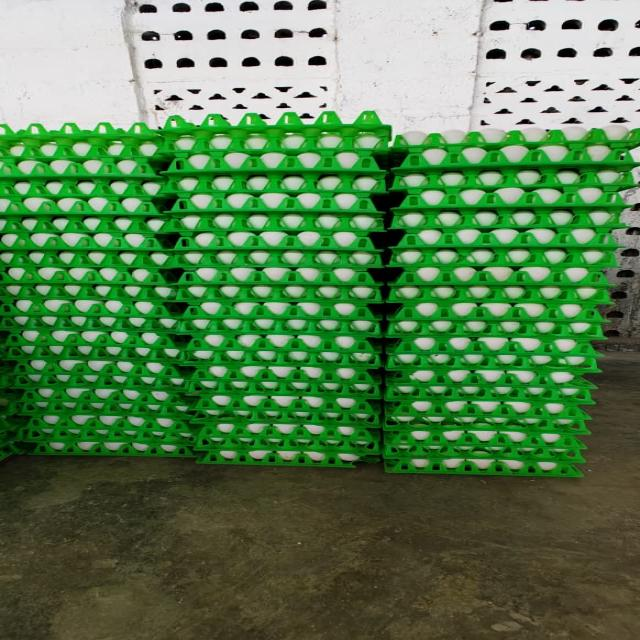egg_tray: (384, 130, 633, 475), (391, 138, 631, 285), (391, 196, 622, 339), (189, 302, 379, 465), (385, 338, 596, 474), (180, 230, 378, 367), (387, 297, 600, 424), (0, 234, 378, 302), (390, 196, 622, 300), (184, 302, 380, 425), (383, 364, 593, 476), (389, 270, 607, 368), (391, 194, 624, 284), (389, 228, 611, 322), (178, 231, 380, 332), (186, 326, 379, 426), (390, 248, 609, 336), (185, 328, 380, 426), (2, 267, 177, 374), (181, 302, 379, 396), (194, 366, 379, 466), (8, 316, 187, 418), (390, 211, 617, 291), (174, 214, 380, 302), (185, 334, 379, 426), (0, 231, 180, 330), (387, 337, 596, 422), (0, 203, 176, 301), (15, 359, 191, 456), (391, 194, 624, 266), (163, 120, 389, 190), (172, 194, 380, 270), (173, 192, 382, 267), (393, 145, 635, 209), (10, 331, 188, 417), (0, 198, 172, 286), (189, 348, 379, 426), (0, 216, 176, 299), (177, 230, 379, 302), (0, 198, 168, 284), (386, 364, 594, 433), (393, 144, 636, 203), (0, 202, 170, 286), (174, 200, 382, 268), (15, 359, 189, 440), (0, 290, 181, 366), (391, 208, 619, 268), (386, 364, 593, 430), (181, 300, 379, 368), (4, 316, 189, 388), (163, 154, 385, 213), (163, 152, 384, 208), (0, 124, 162, 200), (383, 416, 587, 476), (170, 213, 380, 271), (390, 230, 615, 283), (389, 282, 608, 336), (393, 194, 624, 245), (192, 365, 378, 428), (383, 419, 585, 476), (1, 298, 180, 362), (383, 414, 585, 470), (2, 180, 161, 251), (177, 250, 380, 305), (0, 251, 176, 313), (390, 271, 608, 321), (389, 286, 606, 336), (190, 364, 380, 419), (163, 149, 384, 196), (0, 246, 177, 302), (195, 412, 378, 466), (390, 191, 624, 233), (0, 140, 163, 200), (163, 152, 384, 196), (0, 160, 162, 220), (162, 112, 389, 154), (404, 170, 630, 212), (0, 249, 177, 302), (191, 380, 378, 430), (23, 387, 191, 442), (2, 193, 164, 250), (391, 166, 633, 204), (195, 416, 378, 466), (162, 151, 384, 192), (197, 416, 378, 466), (170, 192, 382, 234), (170, 192, 382, 233), (386, 386, 592, 428), (386, 302, 604, 341), (389, 264, 607, 302), (383, 427, 585, 468), (168, 232, 380, 270), (386, 334, 597, 372), (162, 152, 383, 188), (195, 420, 378, 463), (394, 144, 636, 176), (20, 412, 194, 456), (21, 412, 194, 456), (385, 368, 595, 404), (19, 403, 194, 446), (177, 266, 380, 303), (172, 136, 383, 171), (178, 301, 380, 337), (184, 332, 379, 369), (1, 211, 172, 252), (187, 364, 380, 400), (0, 264, 175, 302), (393, 124, 639, 151), (172, 192, 378, 224), (385, 414, 589, 446), (0, 298, 181, 334), (23, 416, 190, 455), (192, 393, 378, 428), (0, 156, 158, 194), (0, 123, 162, 160), (384, 447, 583, 477), (5, 328, 180, 362), (0, 298, 178, 331), (0, 196, 163, 232), (0, 250, 172, 284), (162, 171, 385, 197), (15, 357, 189, 390), (195, 435, 378, 466), (404, 186, 622, 212), (20, 385, 189, 418), (0, 176, 163, 210), (385, 450, 582, 477), (196, 419, 378, 448), (0, 136, 161, 167), (24, 430, 195, 456), (197, 443, 378, 467), (30, 434, 196, 457), (0, 122, 159, 146), (222, 303, 343, 324), (0, 345, 23, 448), (0, 357, 22, 447), (404, 364, 533, 379), (0, 351, 21, 430), (0, 359, 23, 430), (0, 387, 19, 450), (0, 358, 19, 418), (0, 414, 24, 460), (254, 302, 304, 324), (0, 358, 14, 417), (0, 432, 29, 460), (86, 390, 152, 400), (455, 169, 508, 181), (77, 360, 108, 378), (0, 440, 25, 460), (144, 236, 167, 256), (280, 213, 304, 231), (490, 228, 528, 238), (559, 170, 596, 180), (243, 213, 267, 226), (350, 354, 378, 365), (21, 234, 49, 243), (549, 212, 574, 222), (426, 172, 450, 182), (287, 254, 308, 265), (476, 210, 497, 221), (520, 230, 545, 239), (312, 256, 334, 266), (218, 254, 239, 264), (463, 324, 484, 334), (334, 154, 354, 164), (249, 254, 267, 265), (575, 230, 597, 239), (611, 128, 626, 140), (399, 287, 415, 298), (338, 218, 360, 226), (65, 390, 87, 398), (362, 250, 376, 262), (357, 216, 378, 224), (353, 318, 374, 326), (289, 336, 305, 346), (251, 254, 267, 264), (474, 288, 500, 294), (53, 371, 67, 382), (285, 254, 299, 265), (457, 232, 476, 240), (440, 254, 455, 264), (324, 134, 339, 144), (324, 232, 340, 241), (110, 332, 126, 341), (399, 289, 415, 298), (353, 221, 369, 230), (456, 269, 468, 281), (143, 184, 156, 195), (153, 289, 170, 297), (346, 372, 363, 380), (279, 251, 294, 260), (135, 234, 154, 241), (283, 232, 305, 238), (119, 178, 135, 186), (27, 184, 43, 192), (362, 136, 378, 144), (494, 234, 508, 243), (505, 325, 523, 332), (117, 362, 132, 370), (358, 181, 371, 190), (258, 336, 272, 344), (354, 216, 368, 224), (361, 242, 372, 252), (84, 332, 95, 342), (250, 214, 262, 223), (402, 289, 415, 297), (398, 352, 412, 359), (90, 182, 114, 186), (428, 192, 440, 200), (317, 260, 333, 266), (357, 202, 372, 208), (47, 302, 56, 312), (559, 235, 574, 241), (199, 303, 210, 311), (567, 452, 576, 461), (507, 288, 517, 296), (147, 362, 163, 367), (205, 376, 218, 382), (541, 234, 554, 240), (455, 232, 468, 238), (361, 242, 372, 249), (322, 252, 333, 259), (157, 290, 169, 296), (251, 184, 263, 190), (283, 252, 294, 258), (358, 320, 369, 326), (581, 421, 587, 432), (354, 236, 367, 241), (207, 185, 220, 190), (150, 183, 158, 191), (236, 303, 252, 307), (31, 200, 37, 210), (115, 184, 125, 190), (110, 202, 119, 208), (214, 236, 227, 240), (508, 464, 521, 468), (158, 397, 168, 402), (466, 295, 482, 298), (591, 282, 603, 286), (355, 312, 363, 318), (36, 220, 45, 225), (549, 288, 560, 292), (306, 414, 313, 420), (112, 304, 119, 310), (550, 230, 556, 237), (284, 443, 294, 447), (141, 370, 151, 374), (343, 232, 352, 236), (232, 309, 238, 315), (350, 414, 356, 420), (285, 215, 297, 218), (468, 272, 474, 278), (330, 183, 336, 189), (341, 368, 347, 374), (291, 180, 297, 186), (362, 181, 369, 186), (511, 234, 518, 239), (284, 220, 295, 223), (246, 308, 254, 312), (433, 326, 441, 330), (131, 198, 139, 202), (312, 367, 320, 371), (291, 186, 299, 190), (570, 271, 578, 275), (235, 232, 249, 234), (367, 218, 374, 222), (404, 326, 411, 330), (30, 433, 35, 438), (222, 214, 230, 217), (309, 313, 317, 316), (574, 376, 580, 380), (95, 206, 101, 210), (102, 310, 108, 314), (141, 305, 144, 313), (503, 394, 509, 398), (545, 392, 551, 396), (251, 188, 263, 190), (47, 322, 54, 325), (357, 187, 364, 190), (518, 183, 525, 186), (503, 296, 508, 300), (216, 252, 221, 256), (263, 232, 268, 236), (559, 343, 563, 348), (103, 432, 108, 436), (334, 415, 339, 419), (349, 210, 354, 214), (407, 184, 417, 186), (174, 140, 179, 144), (322, 256, 331, 258), (52, 186, 54, 195), (103, 234, 112, 236), (233, 258, 236, 264), (476, 231, 479, 237), (239, 232, 243, 236), (308, 309, 316, 311), (26, 168, 30, 172), (68, 219, 76, 221), (412, 178, 416, 182), (5, 323, 10, 326), (430, 196, 435, 199), (571, 276, 574, 281), (272, 232, 279, 234), (563, 372, 570, 374), (426, 192, 433, 194), (424, 192, 431, 194), (67, 292, 71, 295), (461, 271, 465, 274), (613, 194, 617, 197), (479, 262, 485, 264), (426, 192, 432, 194), (0, 138, 2, 144), (214, 236, 220, 238), (57, 326, 63, 328), (570, 444, 573, 448), (571, 236, 574, 240), (487, 212, 493, 214), (531, 171, 537, 173), (101, 318, 107, 320), (84, 354, 87, 358), (147, 339, 151, 342), (216, 216, 222, 218), (99, 220, 102, 224), (470, 363, 473, 367), (163, 423, 167, 426), (367, 187, 371, 190), (0, 428, 1, 440), (485, 405, 489, 408), (511, 296, 516, 298), (543, 296, 553, 297), (438, 292, 443, 294), (357, 162, 362, 164), (9, 220, 14, 222), (430, 194, 435, 196), (622, 186, 627, 188), (269, 424, 274, 426), (106, 208, 109, 211), (100, 326, 103, 329), (214, 219, 217, 222), (581, 269, 584, 272), (302, 198, 306, 200), (472, 372, 476, 374), (62, 202, 64, 206), (570, 416, 574, 418), (592, 289, 596, 291), (604, 212, 608, 214), (236, 158, 240, 160), (131, 242, 135, 244), (280, 186, 284, 188), (374, 115, 376, 119), (296, 426, 298, 430), (424, 192, 427, 194), (87, 236, 90, 238), (254, 236, 256, 239), (194, 235, 197, 237), (322, 314, 325, 316), (41, 210, 44, 212), (95, 200, 98, 202), (531, 236, 534, 238), (448, 234, 451, 236), (514, 173, 517, 175), (117, 438, 120, 440), (362, 210, 365, 212), (516, 466, 519, 468), (343, 437, 345, 440), (46, 182, 49, 184), (340, 260, 343, 262), (225, 254, 228, 256), (286, 188, 289, 190), (578, 447, 583, 448), (580, 234, 585, 235), (580, 431, 585, 432), (124, 188, 126, 190), (58, 182, 60, 184), (376, 222, 377, 226), (233, 236, 234, 240), (367, 256, 369, 258), (96, 202, 98, 204), (600, 290, 604, 291), (4, 274, 6, 276), (71, 324, 73, 326), (182, 442, 184, 444), (544, 220, 546, 222), (80, 304, 82, 306), (298, 330, 300, 332), (185, 189, 189, 190), (544, 235, 548, 236), (524, 174, 526, 176), (84, 300, 86, 302), (0, 236, 3, 237), (331, 320, 334, 321), (106, 211, 109, 212), (352, 182, 353, 185), (371, 367, 372, 369), (0, 180, 1, 182), (79, 308, 80, 310), (333, 313, 334, 315), (584, 345, 585, 347), (401, 295, 402, 297), (422, 290, 423, 292), (444, 136, 446, 137), (592, 132, 594, 133), (62, 436, 64, 437), (45, 436, 46, 438), (224, 216, 226, 217), (352, 165, 353, 167), (18, 278, 20, 279), (109, 308, 110, 310), (22, 302, 23, 304), (361, 324, 362, 326), (542, 368, 543, 370), (514, 394, 515, 396), (265, 251, 266, 253), (58, 182, 59, 184), (276, 324, 277, 326), (21, 204, 22, 206), (198, 260, 199, 261), (42, 256, 43, 257), (507, 356, 508, 357), (153, 253, 154, 254), (619, 207, 620, 208), (355, 309, 356, 310), (232, 323, 233, 324), (211, 318, 212, 319), (397, 283, 398, 283), (558, 181, 560, 181), (585, 174, 586, 174), (546, 167, 546, 169), (241, 337, 243, 337), (60, 379, 61, 379), (142, 374, 143, 374), (95, 287, 96, 287), (576, 268, 578, 268), (43, 183, 47, 183), (546, 261, 548, 261), (456, 196, 456, 197), (516, 190, 517, 190), (56, 236, 59, 236), (62, 234, 62, 236), (338, 219, 338, 219), (330, 252, 333, 252), (246, 234, 250, 234), (200, 234, 208, 234), (232, 318, 234, 318), (240, 310, 243, 310), (307, 305, 308, 305), (502, 305, 503, 305), (248, 305, 250, 305), (593, 354, 594, 354), (575, 445, 576, 445), (514, 288, 516, 288), (16, 292, 16, 294), (280, 436, 282, 436), (404, 365, 406, 365), (592, 359, 592, 362), (392, 324, 392, 326), (602, 278, 602, 280), (409, 279, 410, 279), (420, 150, 421, 150), (414, 150, 416, 150), (456, 288, 456, 288), (504, 237, 504, 239), (568, 214, 570, 214), (453, 214, 455, 214), (167, 294, 169, 294), (519, 172, 523, 172), (59, 337, 60, 337), (45, 196, 50, 196), (21, 188, 22, 188), (527, 448, 528, 448), (240, 419, 241, 419), (263, 418, 264, 418), (282, 417, 282, 417), (45, 394, 47, 394), (360, 376, 360, 378), (345, 195, 349, 195), (588, 214, 590, 214), (371, 161, 372, 161), (580, 238, 580, 239), (329, 227, 331, 227), (586, 417, 587, 417), (23, 167, 24, 167), (136, 314, 136, 314), (74, 227, 74, 227), (438, 200, 438, 201), (331, 325, 332, 325), (296, 325, 297, 325), (313, 305, 317, 305), (576, 272, 578, 272), (258, 181, 260, 181), (326, 119, 326, 119), (140, 212, 140, 212), (99, 199, 102, 199), (400, 386, 402, 386), (502, 365, 503, 365), (365, 252, 367, 252), (361, 239, 365, 239), (360, 383, 360, 385), (209, 434, 214, 434), (94, 189, 95, 189), (307, 327, 308, 327), (198, 261, 199, 261), (387, 428, 388, 428), (392, 427, 392, 428), (190, 183, 192, 183), (41, 390, 46, 390), (616, 174, 617, 174), (612, 240, 612, 242), (497, 230, 499, 230), (84, 203, 85, 203), (131, 199, 133, 199), (31, 199, 34, 199), (576, 338, 578, 338)
